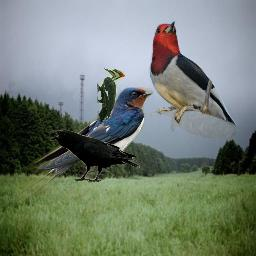Crow: (50, 130, 140, 183)
Swallow: (16, 87, 154, 202)
Woodpecker: (145, 15, 242, 138), (97, 68, 125, 124)
